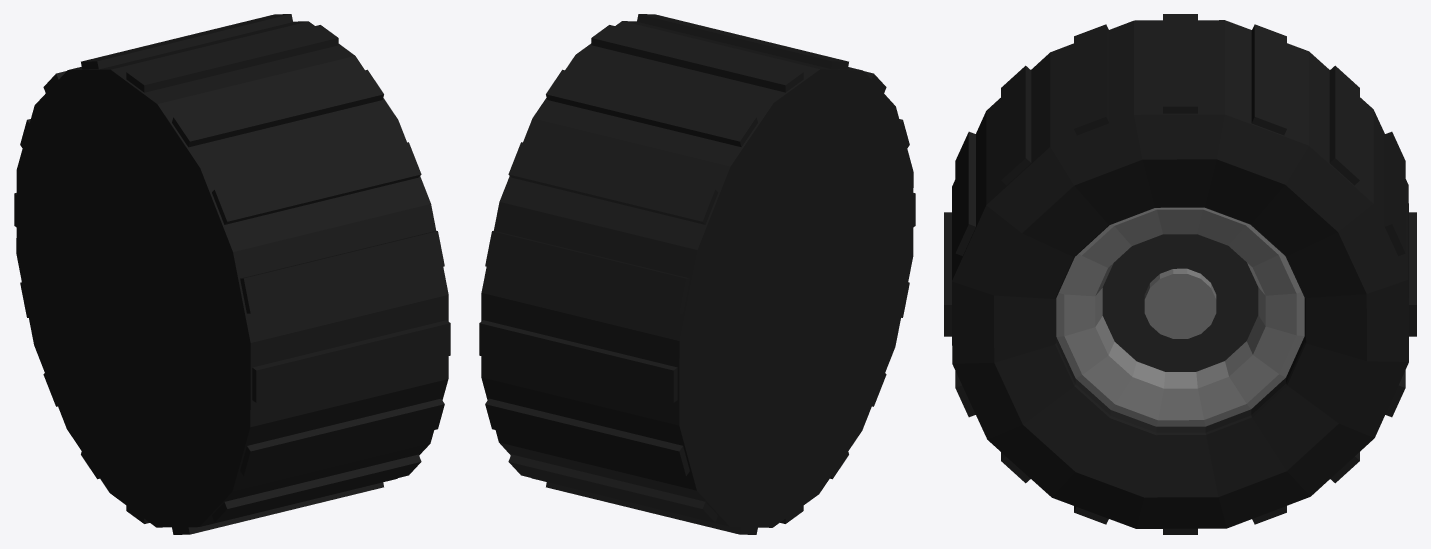
File: Wheel_05.fbx
The picture shows the model from 3 angles, left to right: view 1: azimuth 30°, elevation 25°; view 2: azimuth 150°, elevation 25°; view 3: azimuth 270°, elevation 25°; orthographic projection. The views are drawn at different scales.
Parts seen in each view (by area): view 1: Wheel_05; view 2: Wheel_05; view 3: Wheel_05.
Boxes of the visible parts, <box> form: Wheel_05: <box>14,14,450,534</box>; Wheel_05: <box>479,14,915,534</box>; Wheel_05: <box>944,14,1416,534</box>.
Size of the model in its own units: 29.47 by 58.25 by 58.25.
